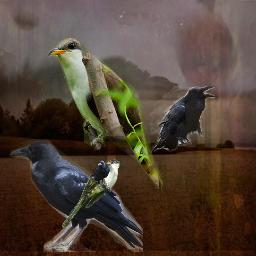Crow: (9, 139, 143, 252), (150, 86, 215, 154), (86, 159, 110, 192)
Cuckoo: (44, 38, 170, 189), (61, 159, 124, 230)
